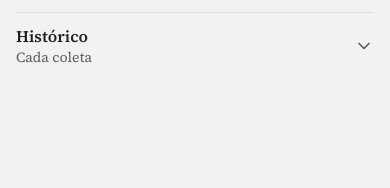
Secao recolhida › abre e fecha pelo botão, com aria-expanded
The width and height of the screenshot is (390, 188).
Click the button "Histórico Cada coleta" at (52, 36), box top-left (16, 13), bottom-right (374, 79)
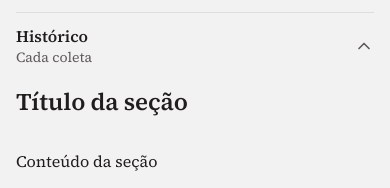
Check: the button "Histórico Cada coleta" is expanded
Click the button "Histórico Cada coleta" at (52, 36), box top-left (16, 13), bottom-right (374, 79)
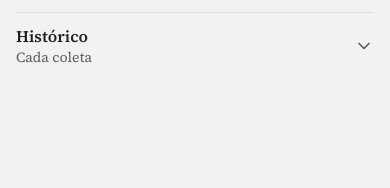
Check: the button "Histórico Cada coleta" is collapsed, box top-left (16, 13), bottom-right (374, 79)
